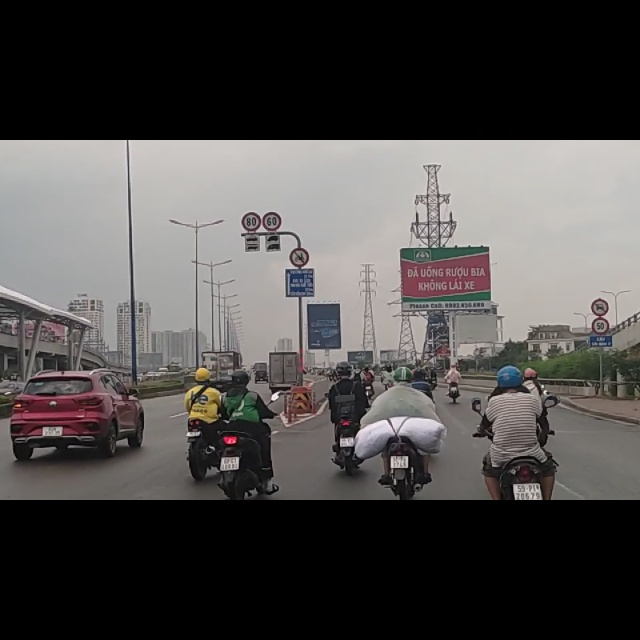bien_cam: (239, 126, 261, 162), (289, 190, 311, 223), (263, 127, 283, 162), (592, 277, 609, 312), (592, 313, 609, 344)
